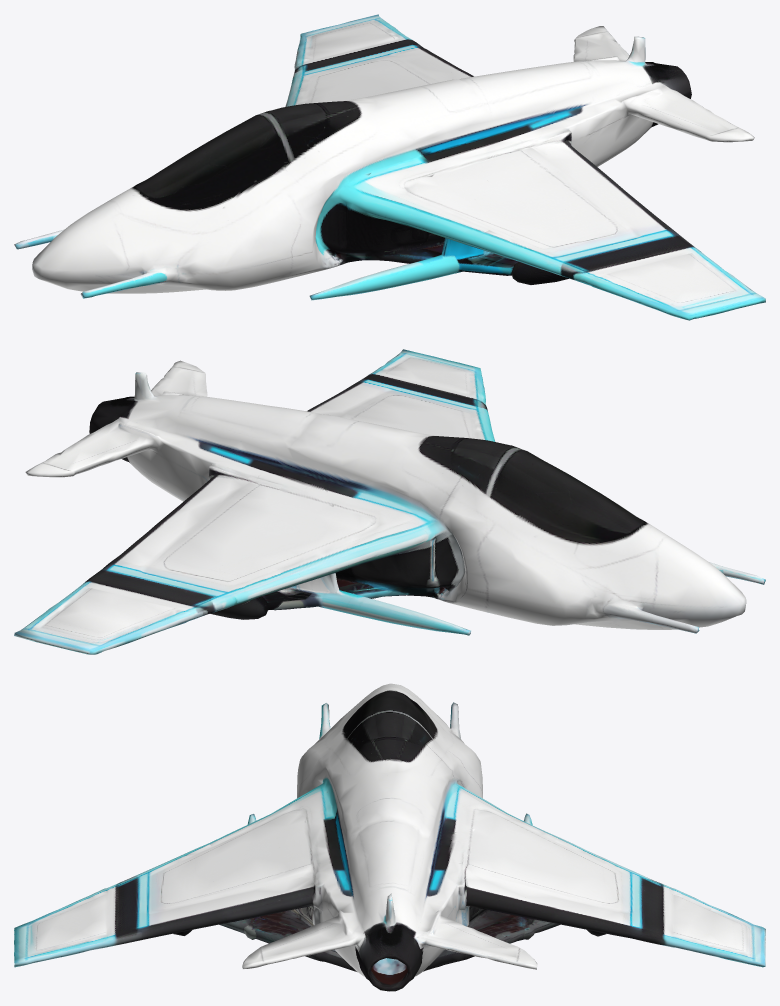
File: Meshy_AI_FuturePlane_0224115325_texture.fbx
The picture shows the model from 3 angles, top to bottom: view 1: azimuth 30°, elevation 25°; view 2: azimuth 150°, elevation 25°; view 3: azimuth 270°, elevation 25°; orthographic projection. The views are drawn at different scales.
Visible parts, largest first — view 1: Mesh_0; view 2: Mesh_0; view 3: Mesh_0.
Part boxes in pixels (left/top/right/bottom): Mesh_0: left=14, top=14, right=765, bottom=320; Mesh_0: left=14, top=349, right=765, bottom=654; Mesh_0: left=14, top=683, right=765, bottom=991.
Bounding box in the file's own units: 183 × 43.77 × 191.
1 material, 1 textured.
